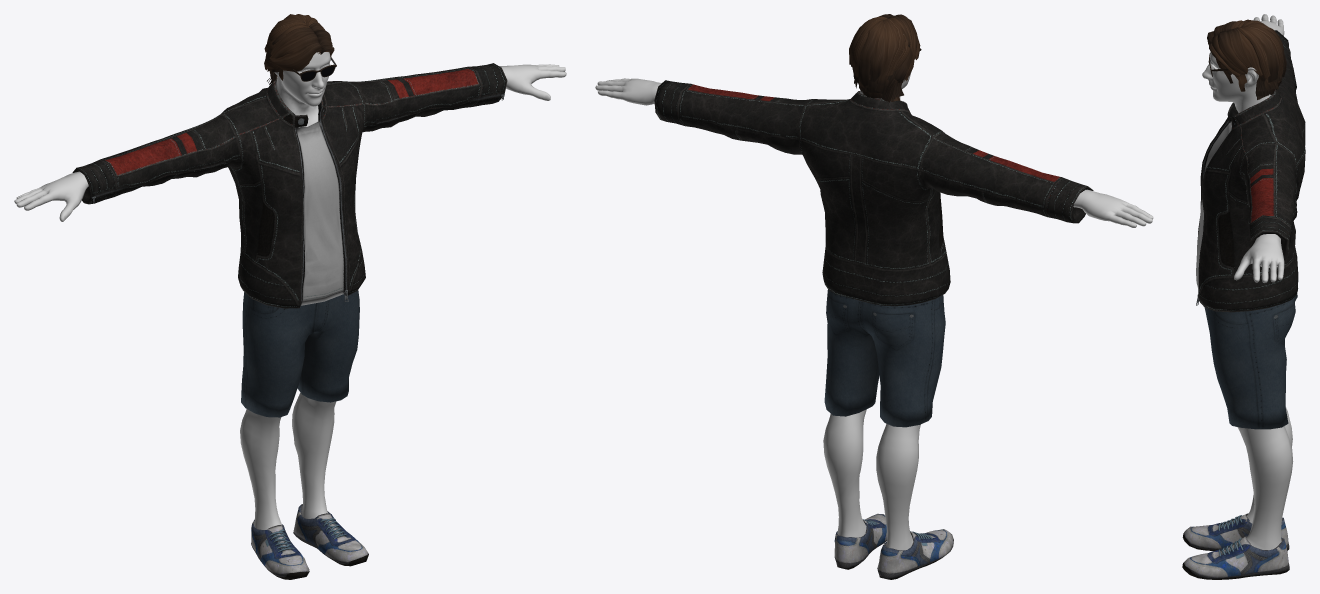
File: Character.obj
The picture shows the model from 3 angles, left to right: view 1: azimuth 30°, elevation 25°; view 2: azimuth 150°, elevation 25°; view 3: azimuth 270°, elevation 25°; orthographic projection.
Visible parts, largest first — view 1: Tops, Body, Bottoms, Shoes, Hair; view 2: Tops, Bottoms, Body, Hair, Shoes; view 3: Tops, Bottoms, Body, Shoes, Hair.
Part boxes in pixels (<box>): Tops: <box>72,63,507,308</box>; Body: <box>14,52,566,529</box>; Bottoms: <box>241,290,359,417</box>; Shoes: <box>251,504,368,579</box>; Hair: <box>264,14,334,86</box>; Tops: <box>654,80,1093,306</box>; Bottoms: <box>824,289,945,427</box>; Body: <box>595,71,1153,550</box>; Hair: <box>849,14,920,102</box>; Shoes: <box>834,513,953,579</box>; Tops: <box>1196,30,1305,312</box>; Bottoms: <box>1204,294,1297,429</box>; Body: <box>1202,14,1293,550</box>; Shoes: <box>1182,513,1289,579</box>; Hair: <box>1207,19,1286,99</box>.
Size of the model in its own units: 194 by 181 by 37.59.
